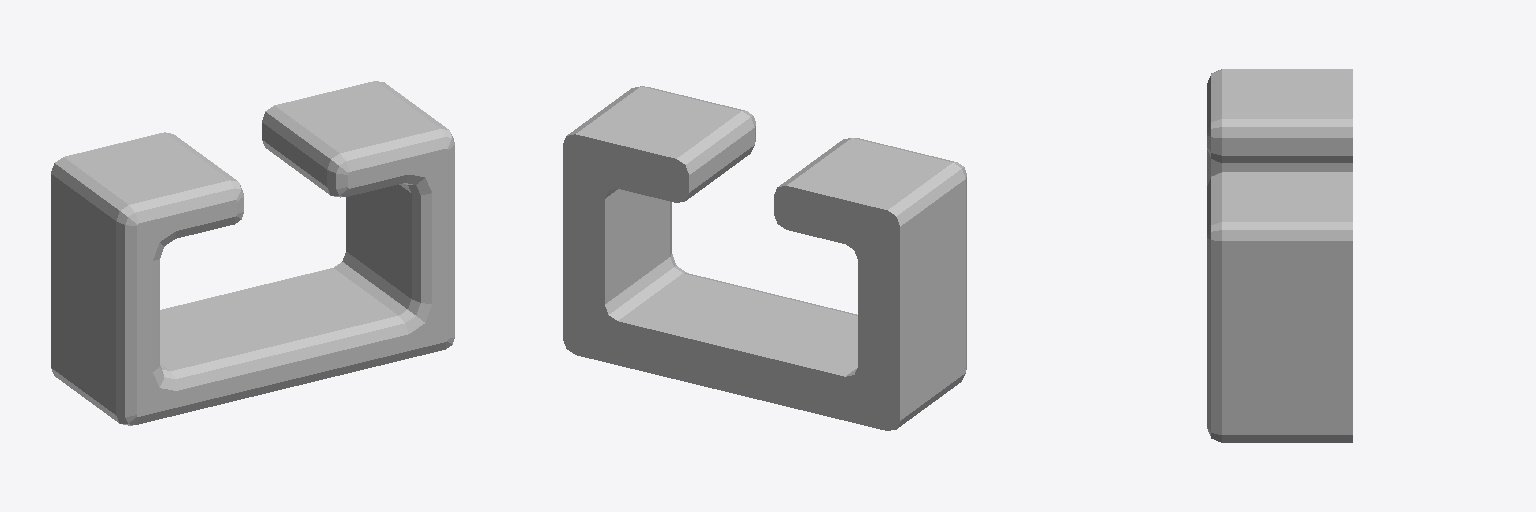
File: 100_GhostHouse.obj
3 renders of one model, left to right at view 1: azimuth 30°, elevation 25°; view 2: azimuth 150°, elevation 25°; view 3: azimuth 270°, elevation 25°, orthographic.
Parts seen in each view (by area): view 1: GhostHouse_Plane.857; view 2: GhostHouse_Plane.857; view 3: GhostHouse_Plane.857.
Part boxes in pixels (x1,y1,x2,y2): GhostHouse_Plane.857: (51,81,454,425); GhostHouse_Plane.857: (563,86,966,430); GhostHouse_Plane.857: (1207,69,1352,442).
Bounding box in the file's own units: 8 × 5 × 3.